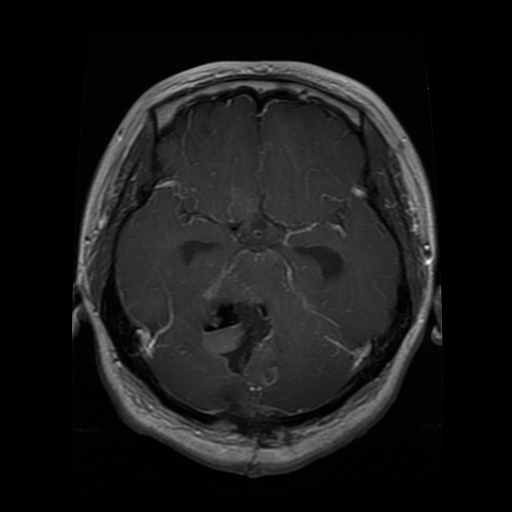glioma: (197, 296, 276, 374)
